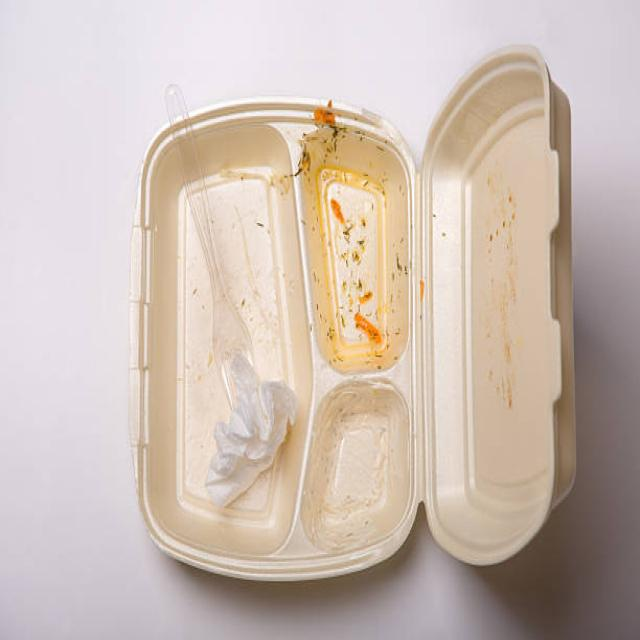paper: (304, 102, 440, 568), (205, 369, 277, 500)
plastic: (159, 92, 258, 376)
